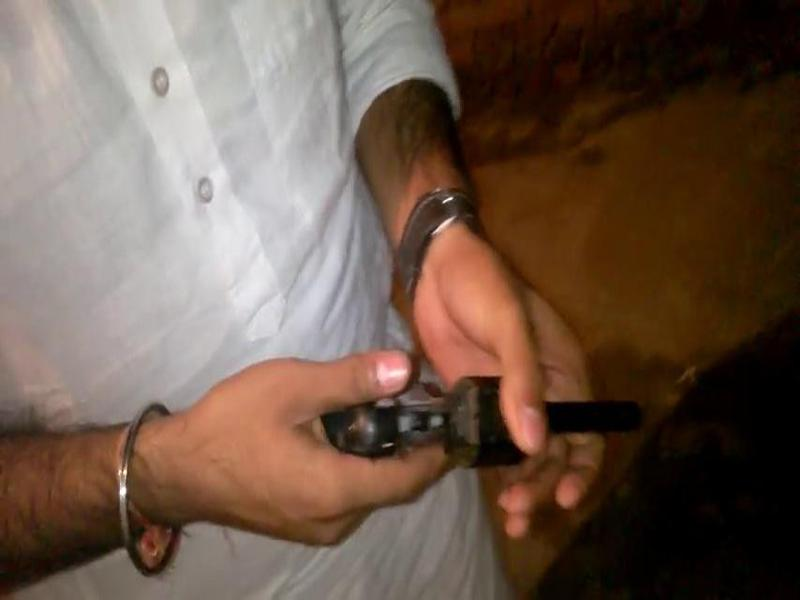Revolver: (264, 348, 670, 528)
